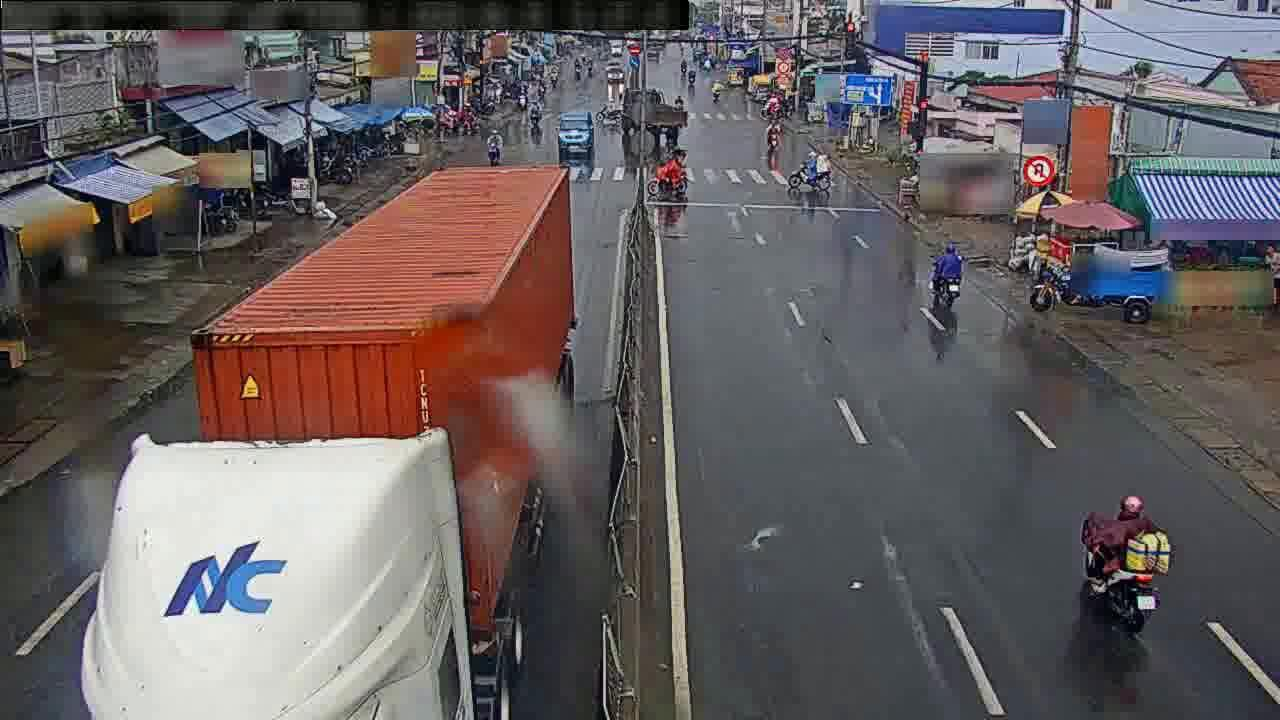container: (94, 166, 579, 714)
motorbike: (1078, 481, 1172, 630), (922, 243, 968, 305), (640, 159, 692, 198), (790, 149, 828, 191), (485, 129, 501, 167), (764, 118, 779, 151)
